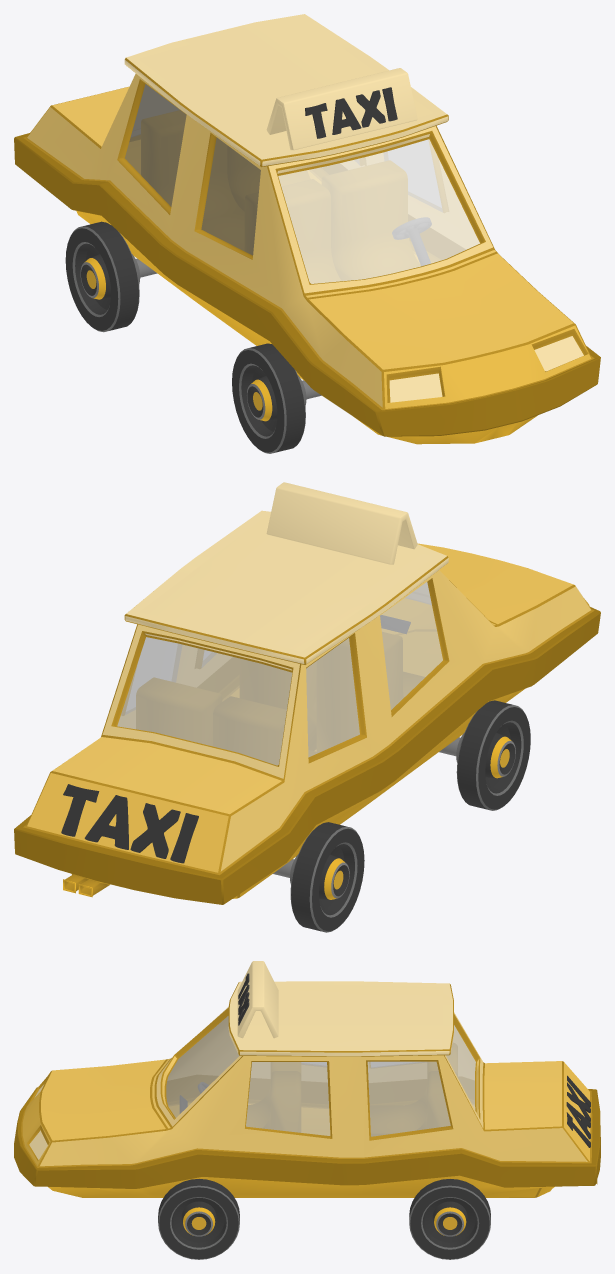
File: TAXI.glb
3 renders of one model, top to bottom at view 1: azimuth 30°, elevation 25°; view 2: azimuth 150°, elevation 25°; view 3: azimuth 270°, elevation 25°, orthographic. The views are drawn at different scales.
Parts seen in each view (by area): view 1: TAXI, Räder.003; view 2: TAXI, Räder.003; view 3: TAXI, Räder.003.
Part boxes in pixels (box(x1,y1,x2,y2)): TAXI: box(14, 14, 600, 444); Räder.003: box(65, 221, 321, 453); TAXI: box(14, 482, 600, 904); Räder.003: box(273, 700, 530, 932); TAXI: box(14, 961, 600, 1197); Räder.003: box(158, 1179, 490, 1259).
Bounding box in the file's own units: 3.06 × 3.55 × 8.16.
Materials: 4 (3 with a texture image).
